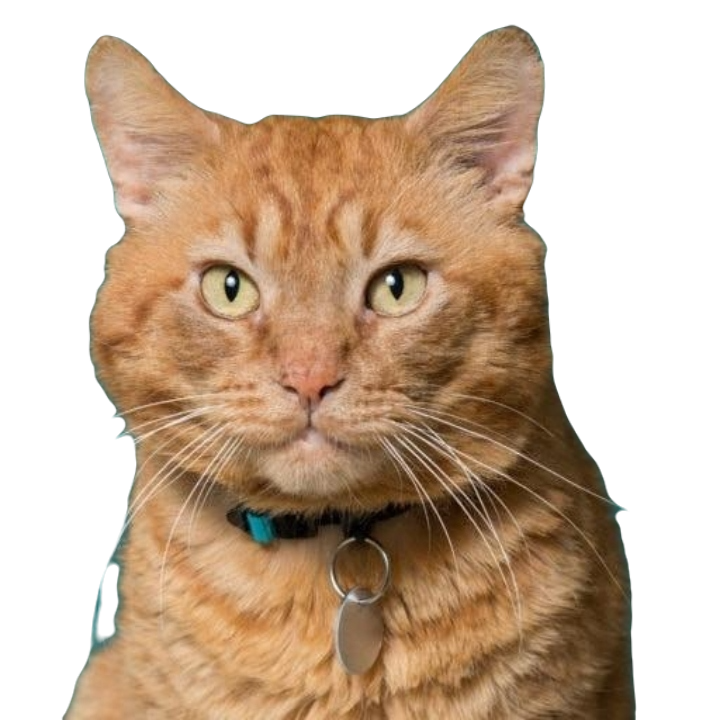Cat: (43, 28, 639, 719)
